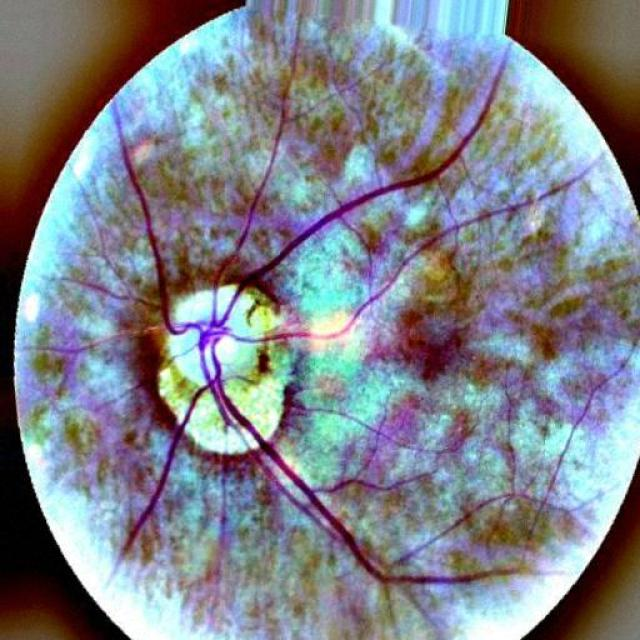Macula: (385, 305, 478, 391)
Nerves: (198, 334, 515, 589), (224, 48, 506, 321), (116, 128, 196, 336)
Optic Disk: (150, 283, 295, 454)
